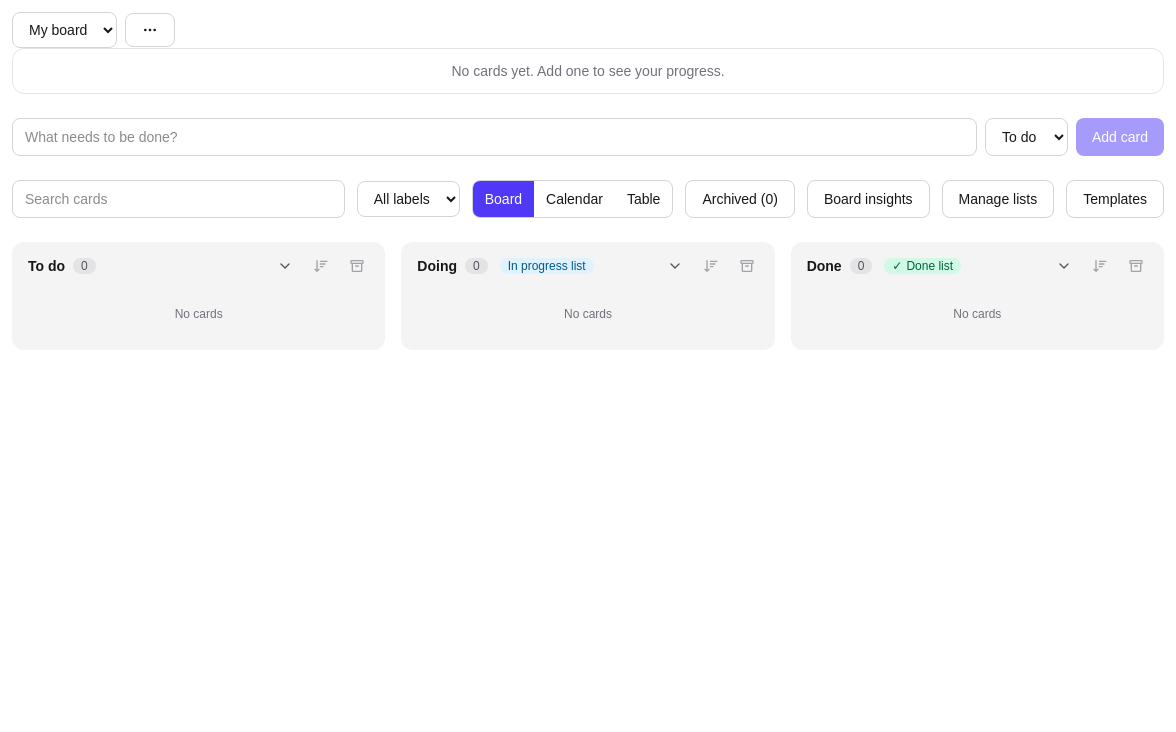
Test: <BoardSwitcher /> › copy board link › shows the link when the clipboard rejects
Click the button named "Board actions" at (150, 30), box x1=125 y1=13 x2=175 y2=47
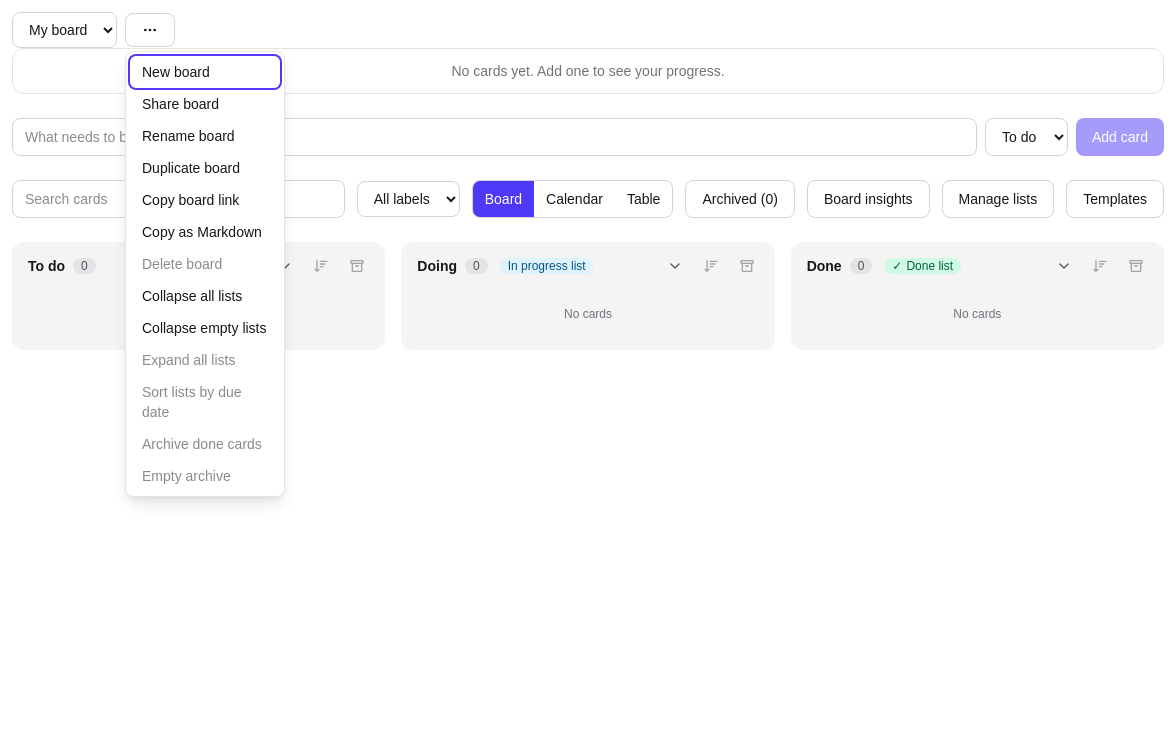
Click the menu item "Copy board link" at (205, 200), box x1=130 y1=184 x2=280 y2=216
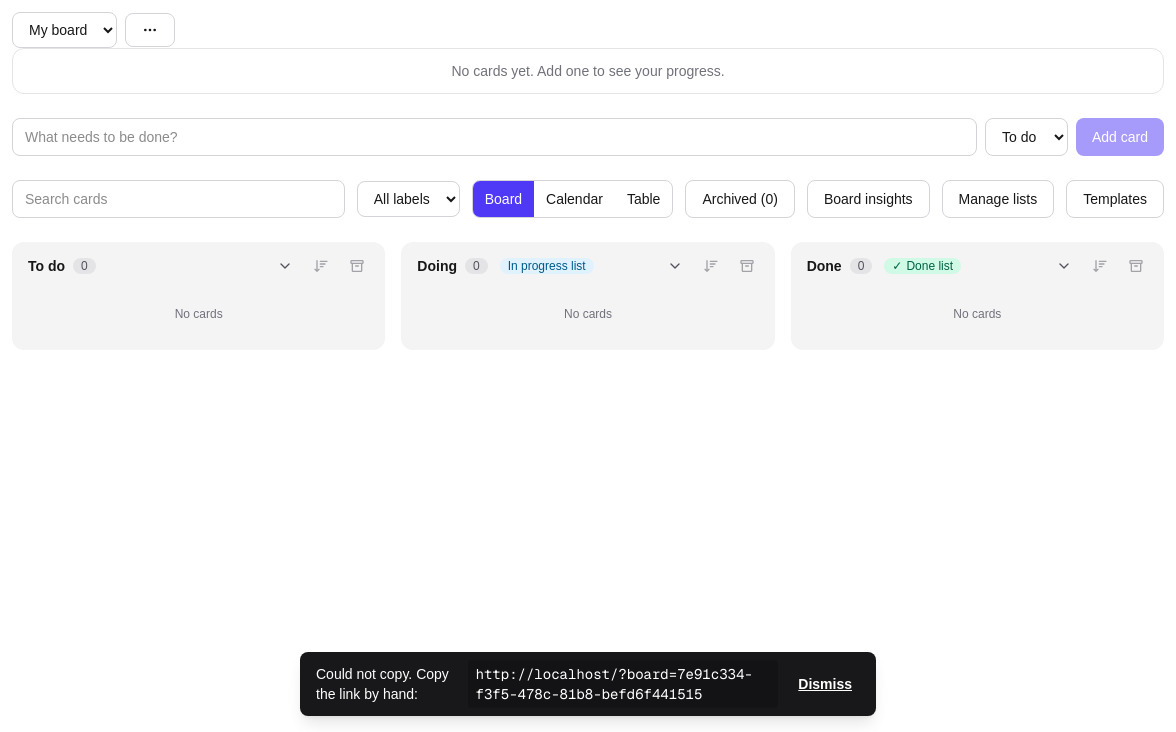
Check: the message does not show "Link copied", box x1=300 y1=652 x2=876 y2=716
Click the button "Dismiss" at (825, 684), box x1=790 y1=670 x2=860 y2=698
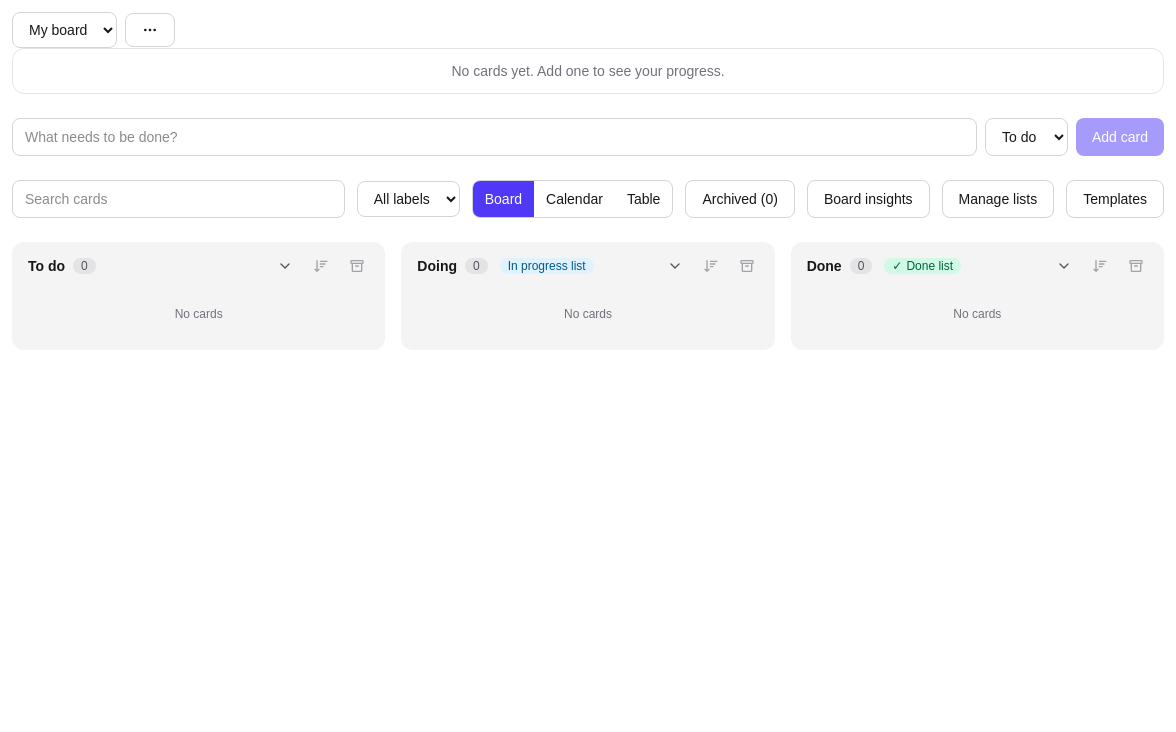
Check: the message is gone
